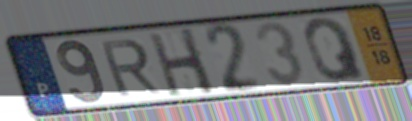2: (204, 19, 265, 100)
3: (253, 18, 309, 89)
9: (54, 38, 108, 105)
H: (145, 25, 219, 99)
Q: (300, 15, 370, 84)
R: (96, 36, 164, 99)
